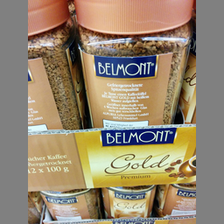coffee: (73, 1, 193, 126), (28, 1, 86, 129)
